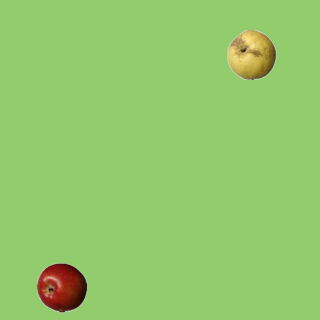Apple Braeburn: (36, 262, 86, 312)
Apple Golden 1: (226, 29, 276, 79)
